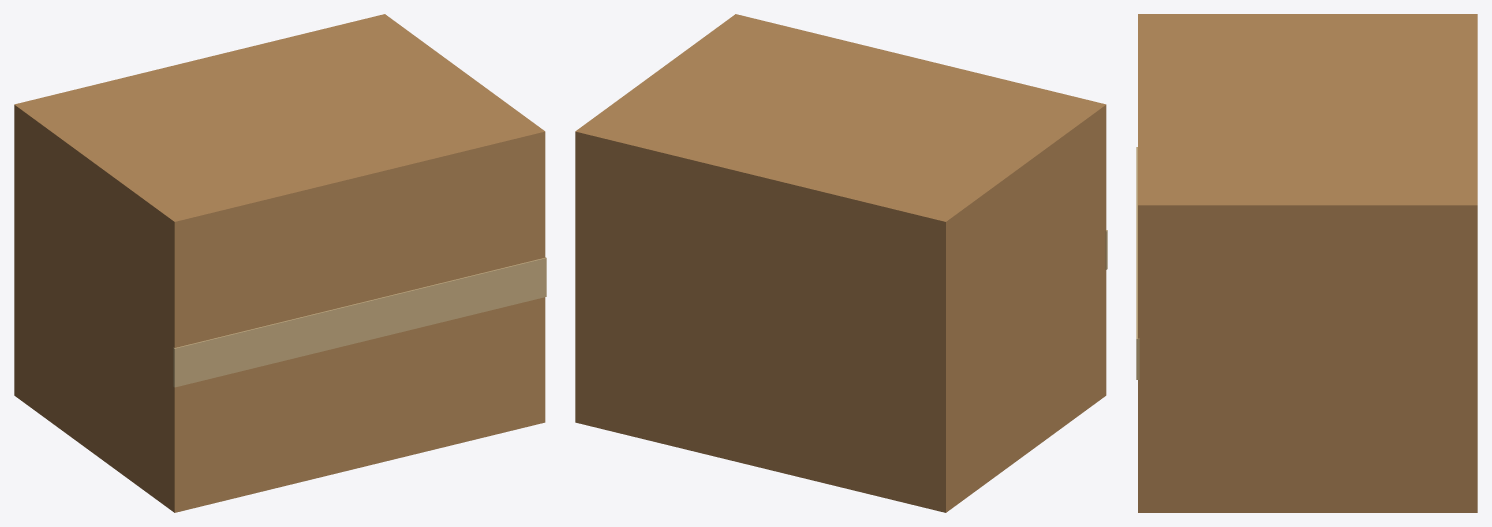
3 renders of one model, left to right at view 1: azimuth 30°, elevation 25°; view 2: azimuth 150°, elevation 25°; view 3: azimuth 270°, elevation 25°, orthographic. The views are drawn at different scales.
Visible parts, largest first — view 1: part_1, part_0; view 2: part_1; view 3: part_1, part_0.
Part boxes in pixels (left/top/right/bottom): part_1: left=14, top=14, right=545, bottom=512; part_0: left=173, top=257, right=546, bottom=387; part_1: left=575, top=14, right=1106, bottom=512; part_1: left=1138, top=14, right=1477, bottom=512; part_0: left=1136, top=147, right=1139, bottom=379.
Size of the model in its own units: 0.602 by 0.45 by 0.452.
